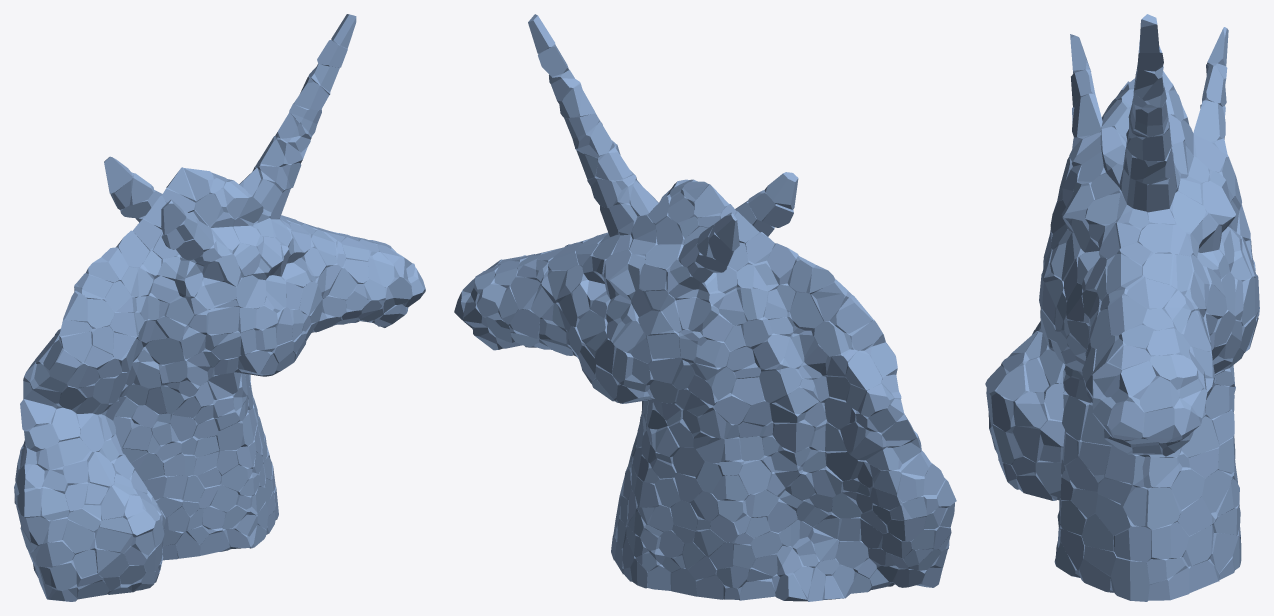
File: 55932_0.1pct_voromesh.glb
The picture shows the model from 3 angles, left to right: view 1: azimuth 30°, elevation 25°; view 2: azimuth 150°, elevation 25°; view 3: azimuth 270°, elevation 25°; orthographic projection. The views are drawn at different scales.
Parts seen in each view (by area): view 1: 55932_noise_0.1pct_voromesh.obj; view 2: 55932_noise_0.1pct_voromesh.obj; view 3: 55932_noise_0.1pct_voromesh.obj.
Part boxes in pixels (x1,y1,x2,y2): 55932_noise_0.1pct_voromesh.obj: [14, 14, 425, 601]; 55932_noise_0.1pct_voromesh.obj: [454, 14, 956, 601]; 55932_noise_0.1pct_voromesh.obj: [985, 14, 1259, 601].
Bounding box in the file's own units: 1.45 × 1.55 × 0.6055.
